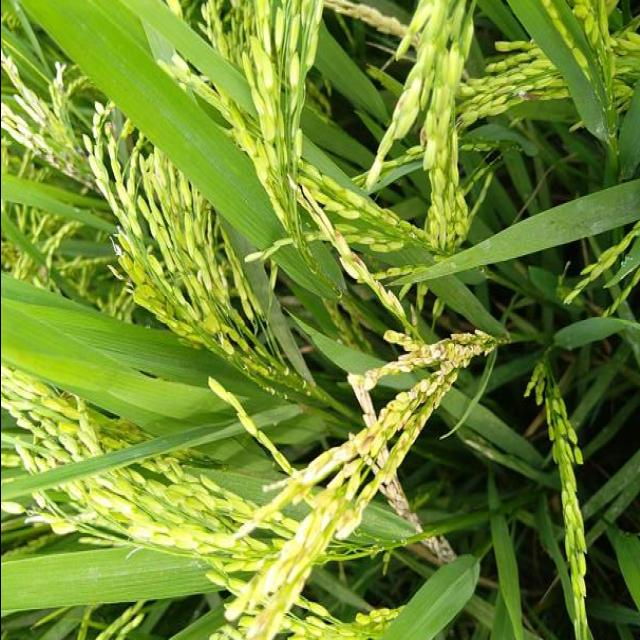Panicle Blight: (335, 230, 363, 266), (354, 429, 374, 457), (422, 343, 445, 358)
